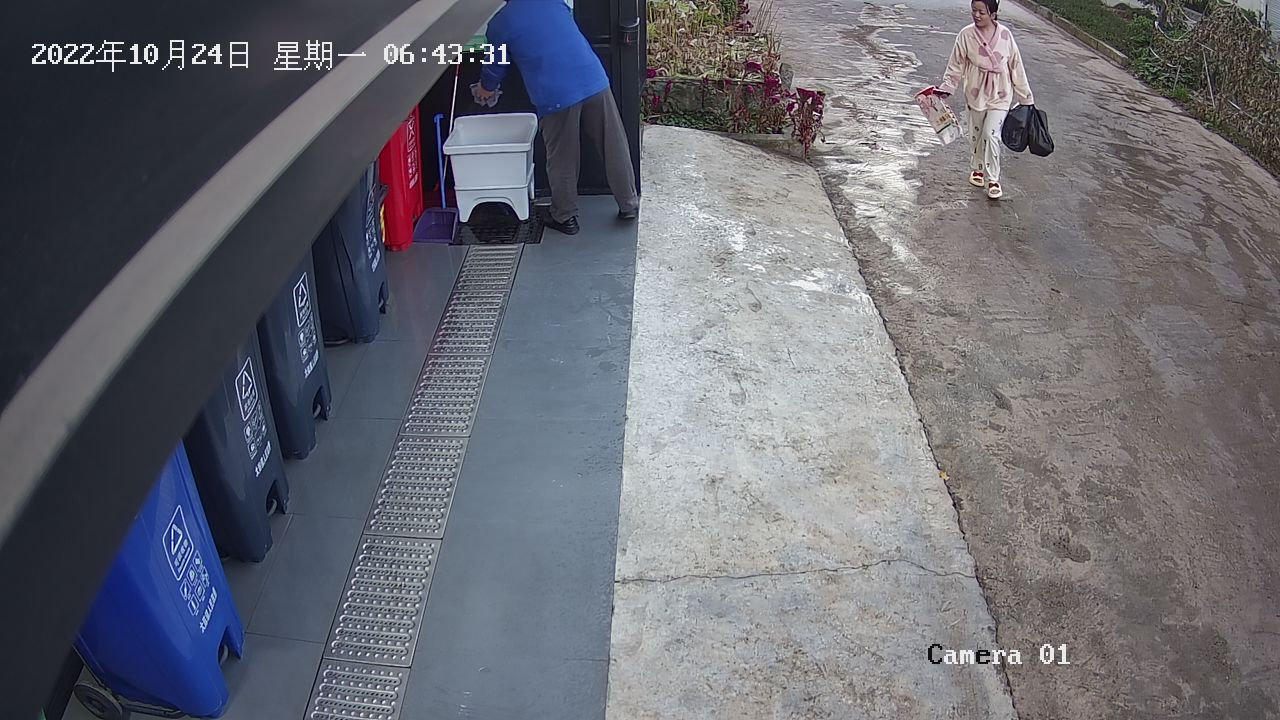garbage-bag: (998, 100, 1058, 160)
person: (913, 1, 1061, 205)
worker: (466, 1, 647, 237)
zhizhipin: (911, 84, 965, 148)
